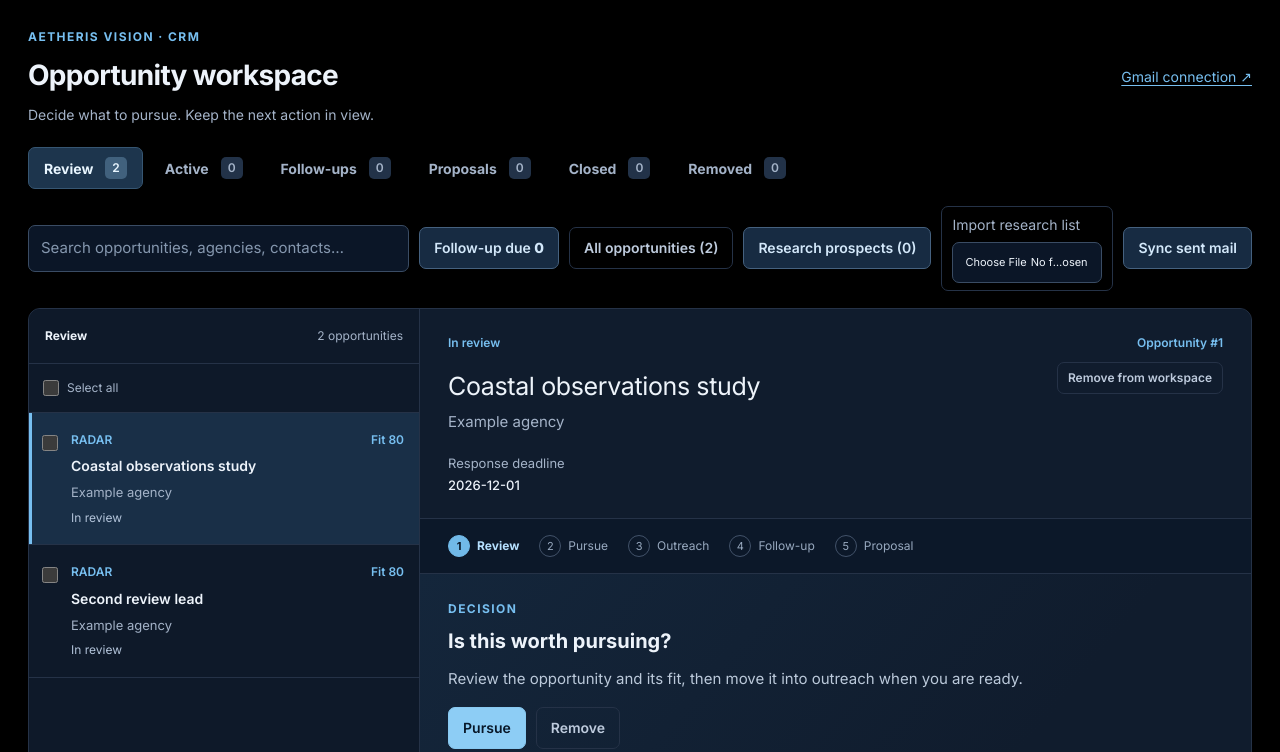
it: opportunity workspace user journeys › confirms the exact bulk removal set and restores previous stages
This screenshot has width=1280, height=752.
Expected: the heading "Coastal observations study" is shown, top-left (448, 370), bottom-right (760, 400)
Click the checkbox labelled "Select all" at [51, 388], box top-left (43, 380), bottom-right (59, 396)
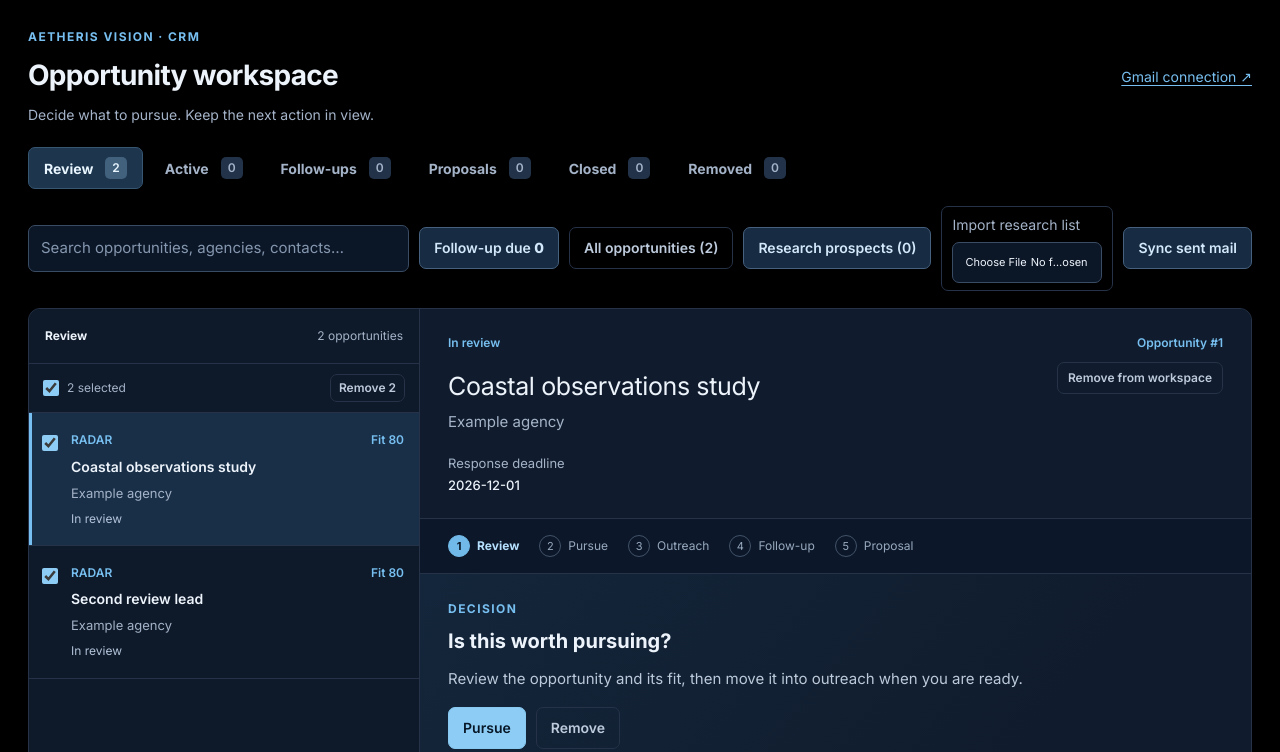
Click the button "Remove 2" at [367, 388], box top-left (330, 374), bottom-right (405, 402)
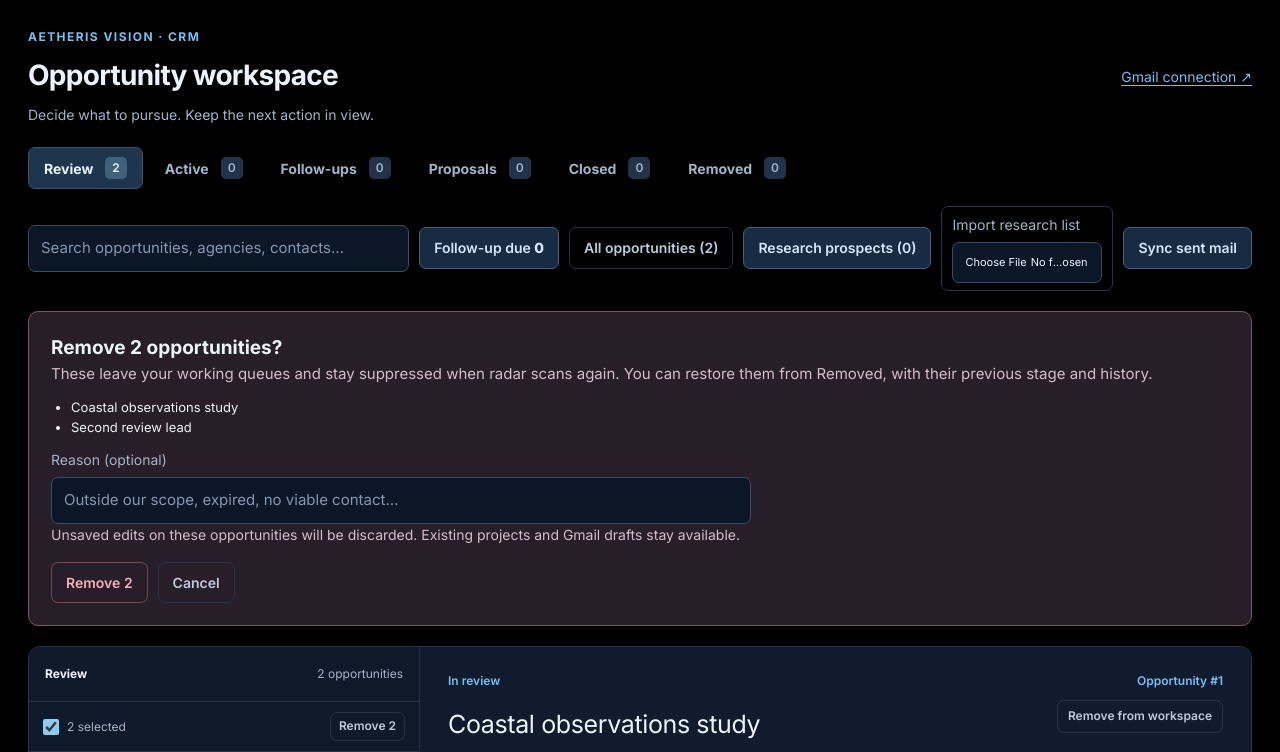
Now the element named "Confirm removal" shows "Coastal observations study", box top-left (71, 399), bottom-right (238, 415)
Now the element named "Confirm removal" shows "Second review lead", box top-left (71, 418), bottom-right (192, 434)
Type "Outside scope" into the field labelled "Reason (optional)" at [401, 500], box top-left (51, 477), bottom-right (751, 524)
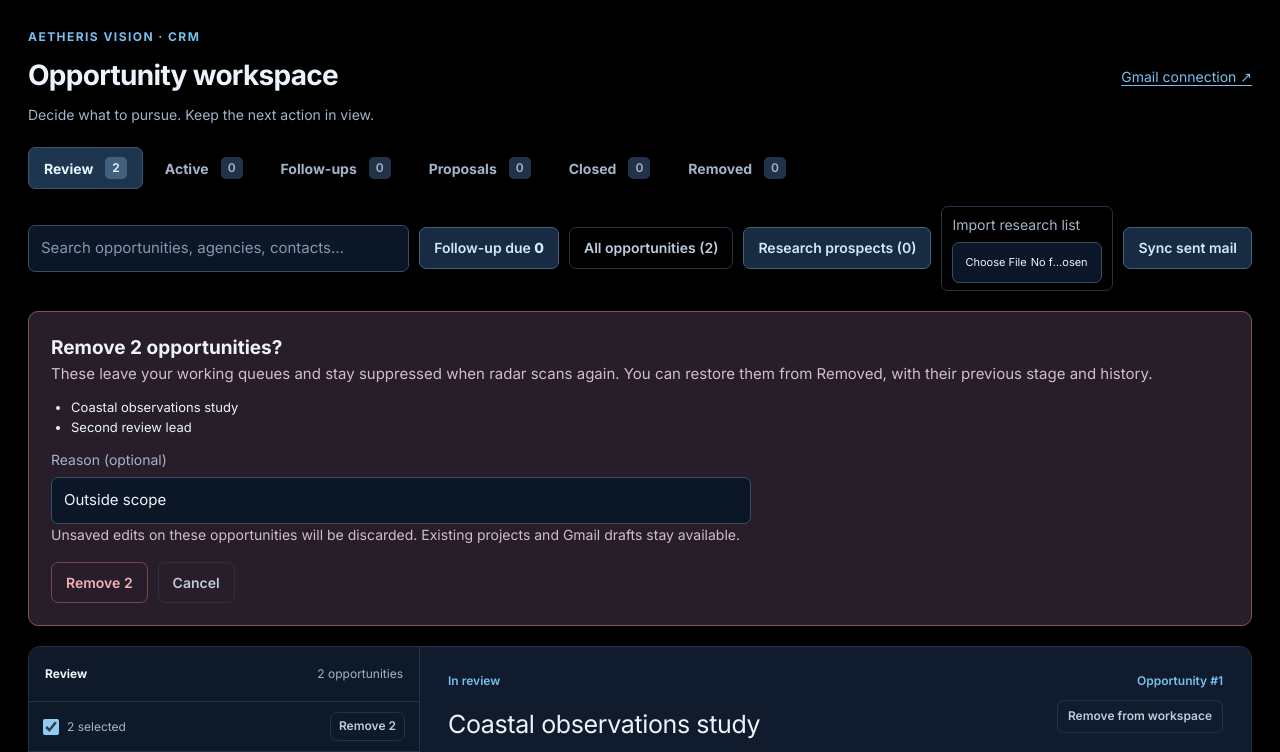
Click the button "Remove 2" below "Reason (optional)" at [99, 583], box top-left (51, 562), bottom-right (148, 604)
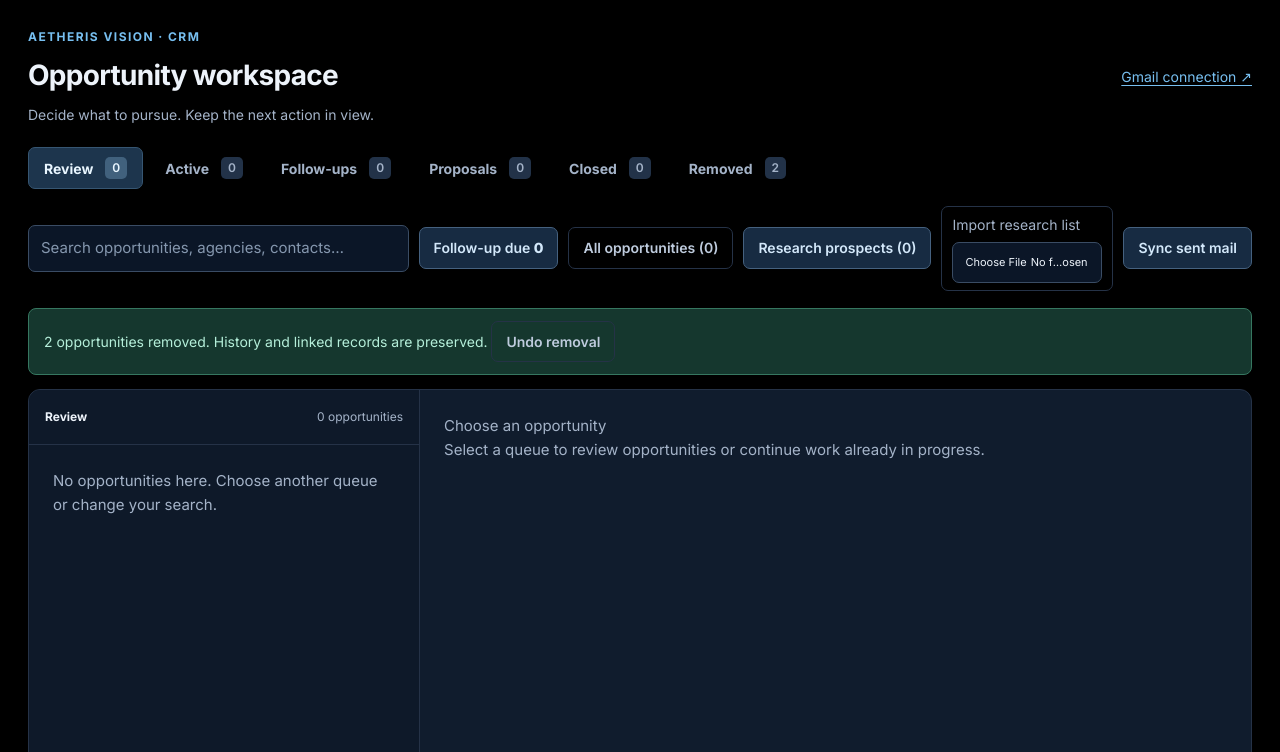
Now the button "Undo removal" is shown
Now the list item "Coastal observations study" is gone
Click the button "Undo removal" at [553, 341], box top-left (492, 320), bottom-right (615, 362)
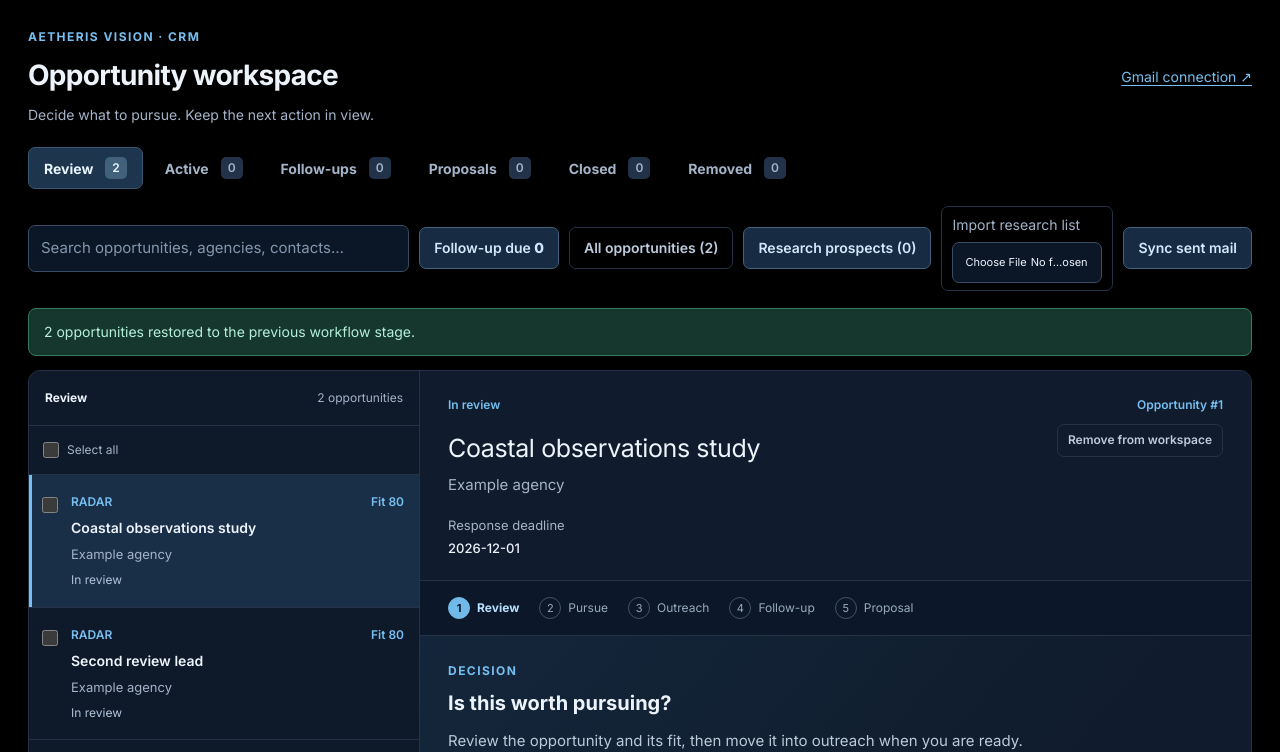
Now the heading "Coastal observations study" is shown, box top-left (448, 433), bottom-right (760, 463)
